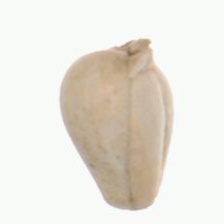L3: (114, 35, 163, 81)
L4: (58, 37, 174, 210)
